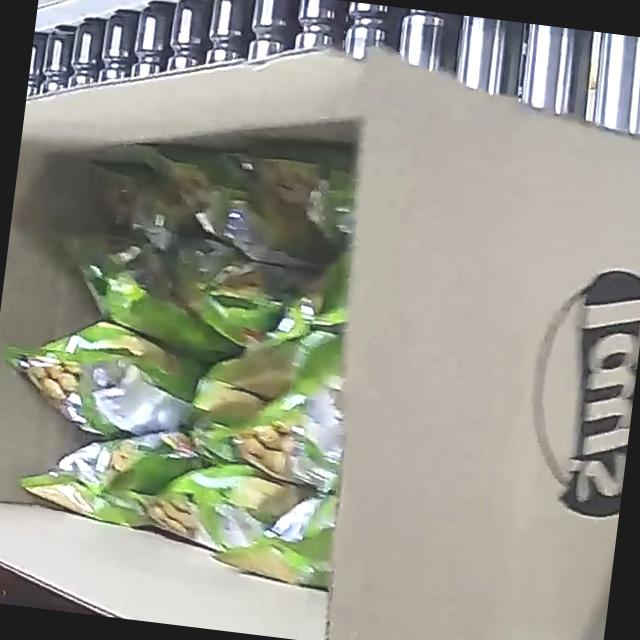yogurt: (0, 114, 380, 590)
